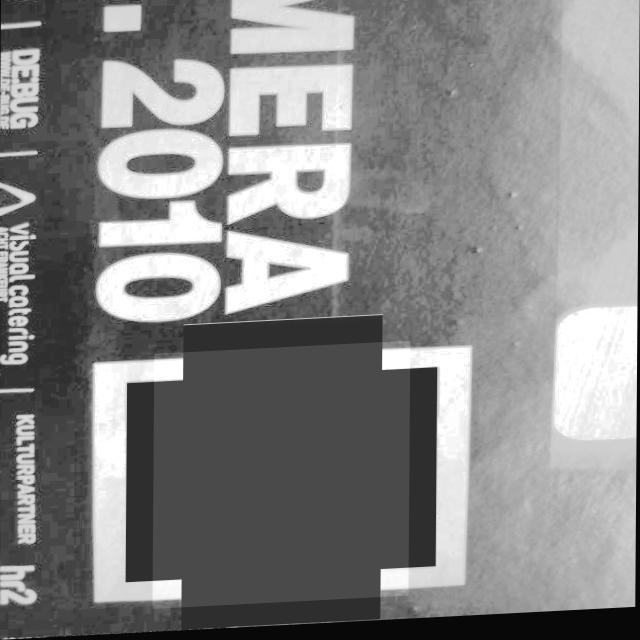qr_code: (152, 345, 410, 611)
